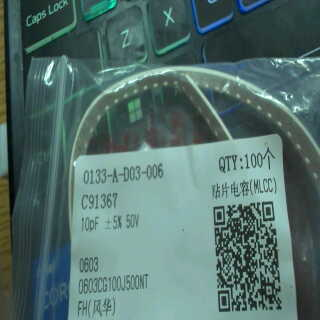10pF: (74, 210, 105, 235)
